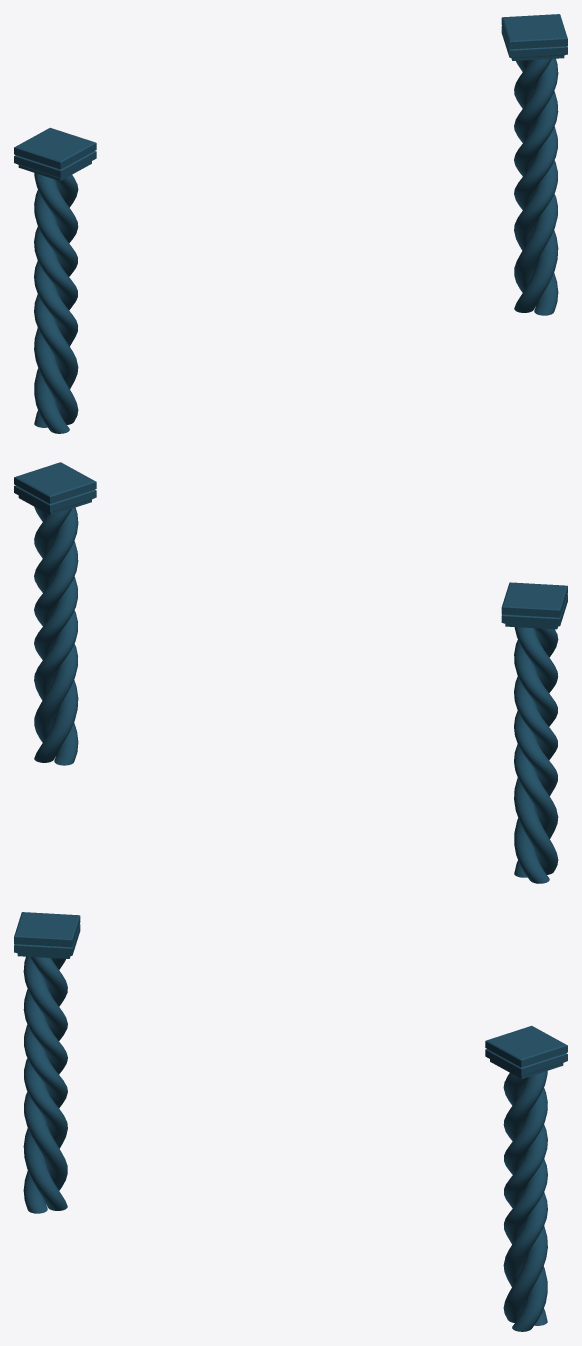
Rendered from Greek Columns.fbx.
3 views of the same model, one above another, from view 1: azimuth 30°, elevation 25°; view 2: azimuth 150°, elevation 25°; view 3: azimuth 330°, elevation 25° (orthographic).
Visible parts, largest first — view 1: BezierCurve.011, Cube.077; view 2: BezierCurve.011, Cube.077; view 3: BezierCurve.011, Cube.077.
Boxes of the visible parts, x1,y1,x2,y2 form: BezierCurve.011: (34,58,558,433); Cube.077: (14,14,567,180); BezierCurve.011: (34,507,558,883); Cube.077: (14,462,567,629); BezierCurve.011: (23,956,547,1331); Cube.077: (14,912,567,1078).
Size of the model in its own units: 6369 by 3115 by 779.
